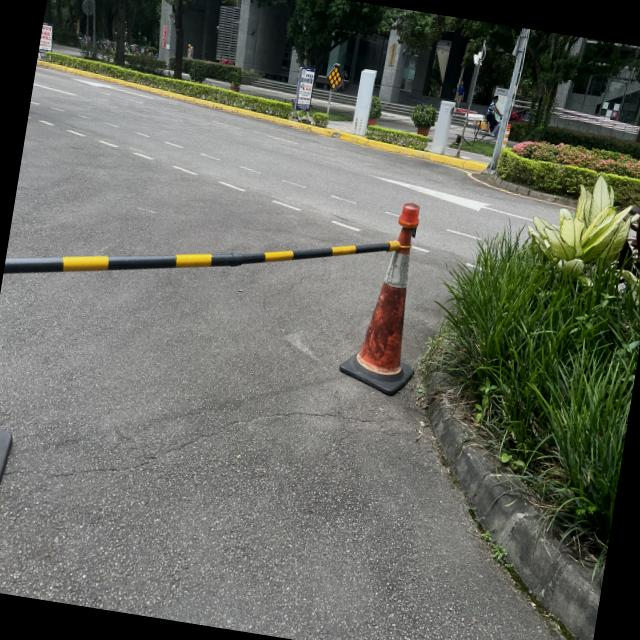cone: (336, 188, 439, 407)
